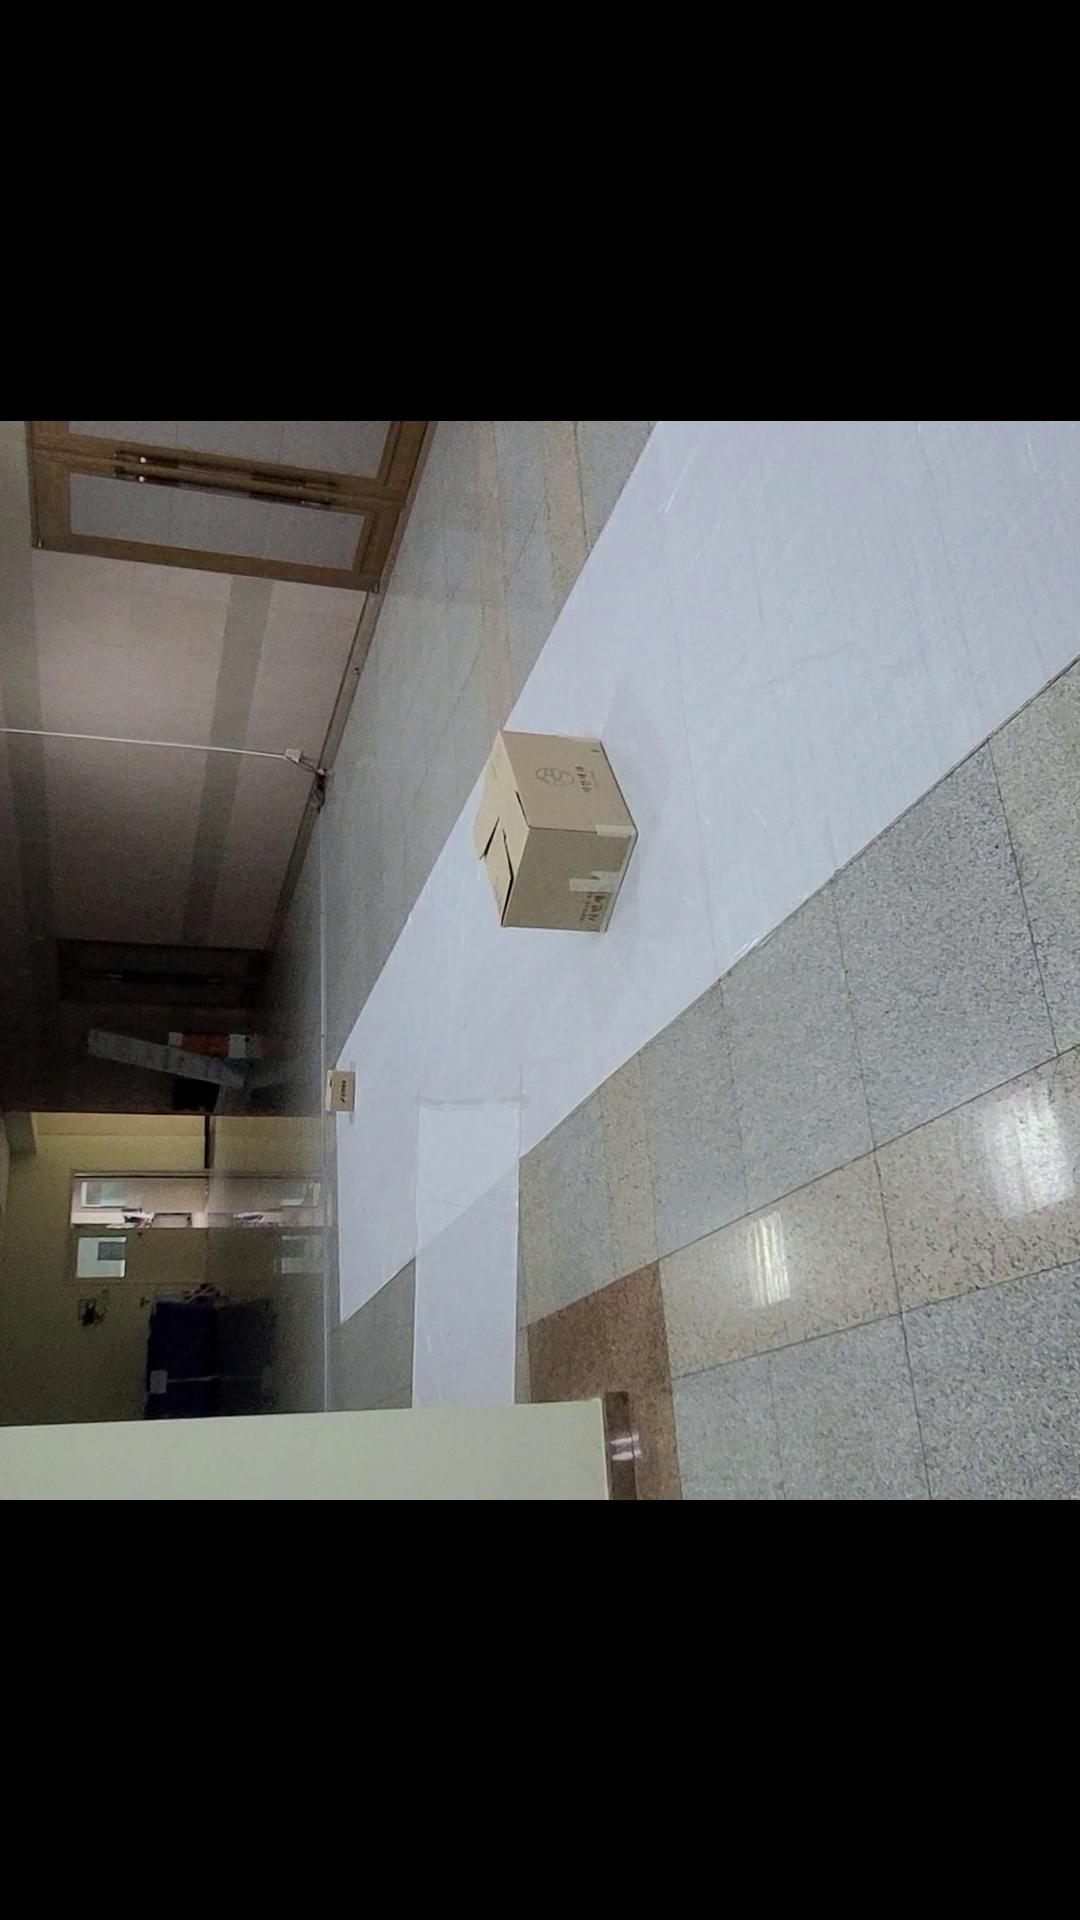Box: (430, 713, 647, 947), (305, 1052, 367, 1129)
